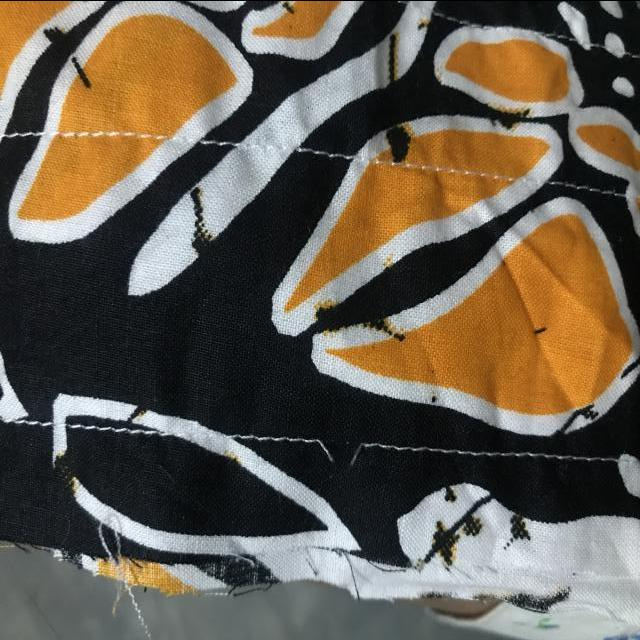Broken: (292, 414, 377, 479)
